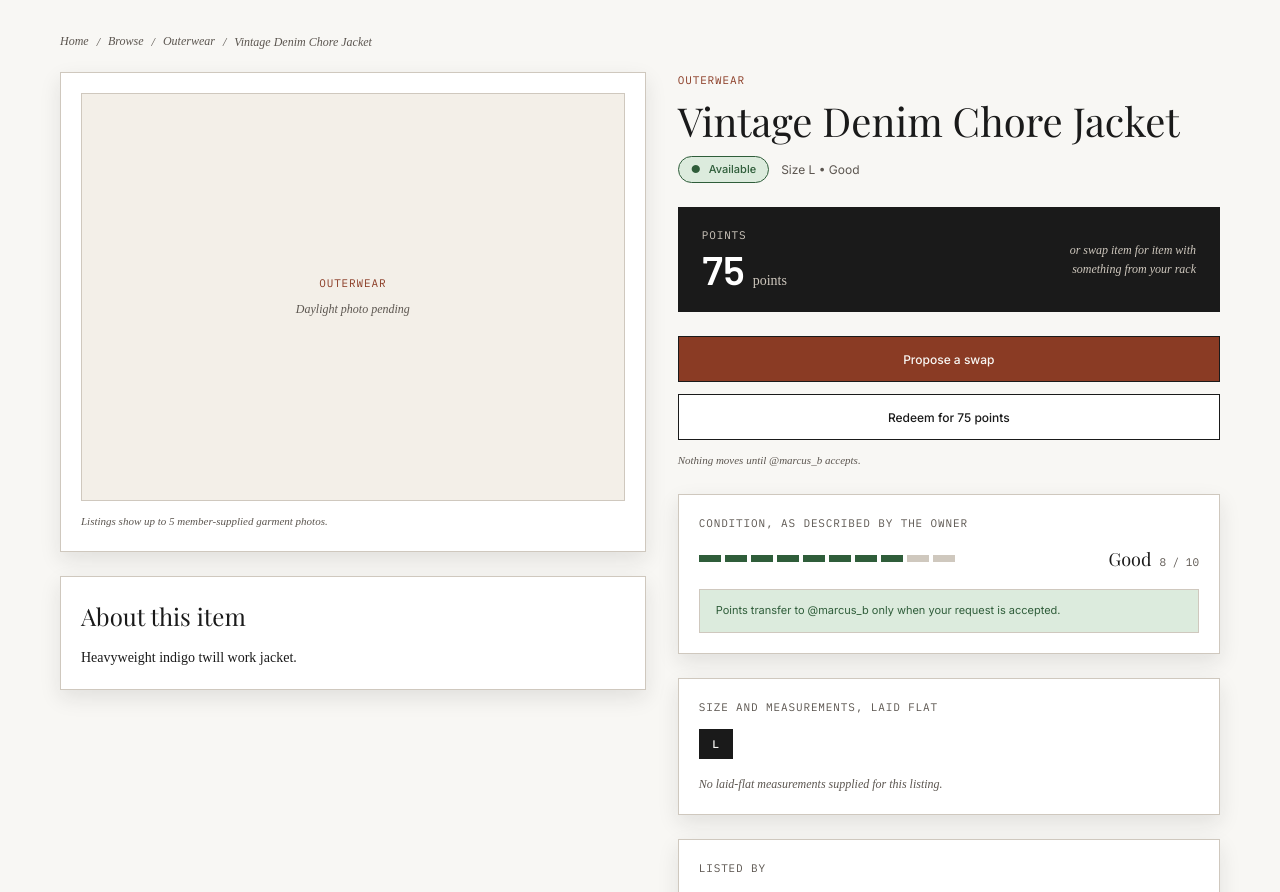
Test case: ItemDetailPage Redeem Dialog & Propose Swap Wiring › links Propose a swap to /swaps/new?item=<id> and opens accessible redeem dialog with focus trap and Escape restore
Click the button "Redeem for 75 points": (949, 417) [678,394,1220,440]
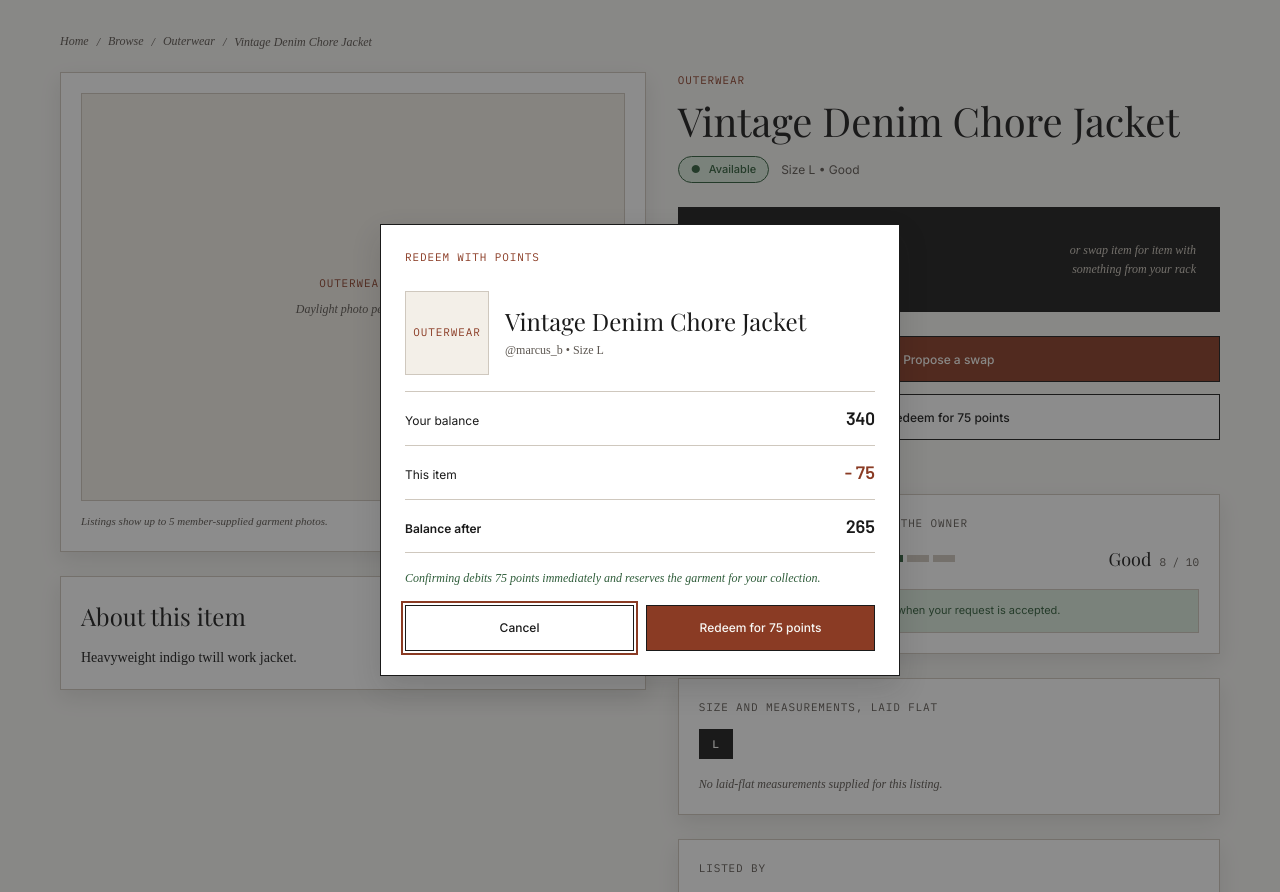
Expected: the text "340" is shown, [846,404,875,433]
Expected: the text "- 75" is shown, [845,458,875,487]
Expected: the text "265" is shown, [846,512,875,540]
Tabbing cycles within dialog and wraps back to Cancel
Press Tab
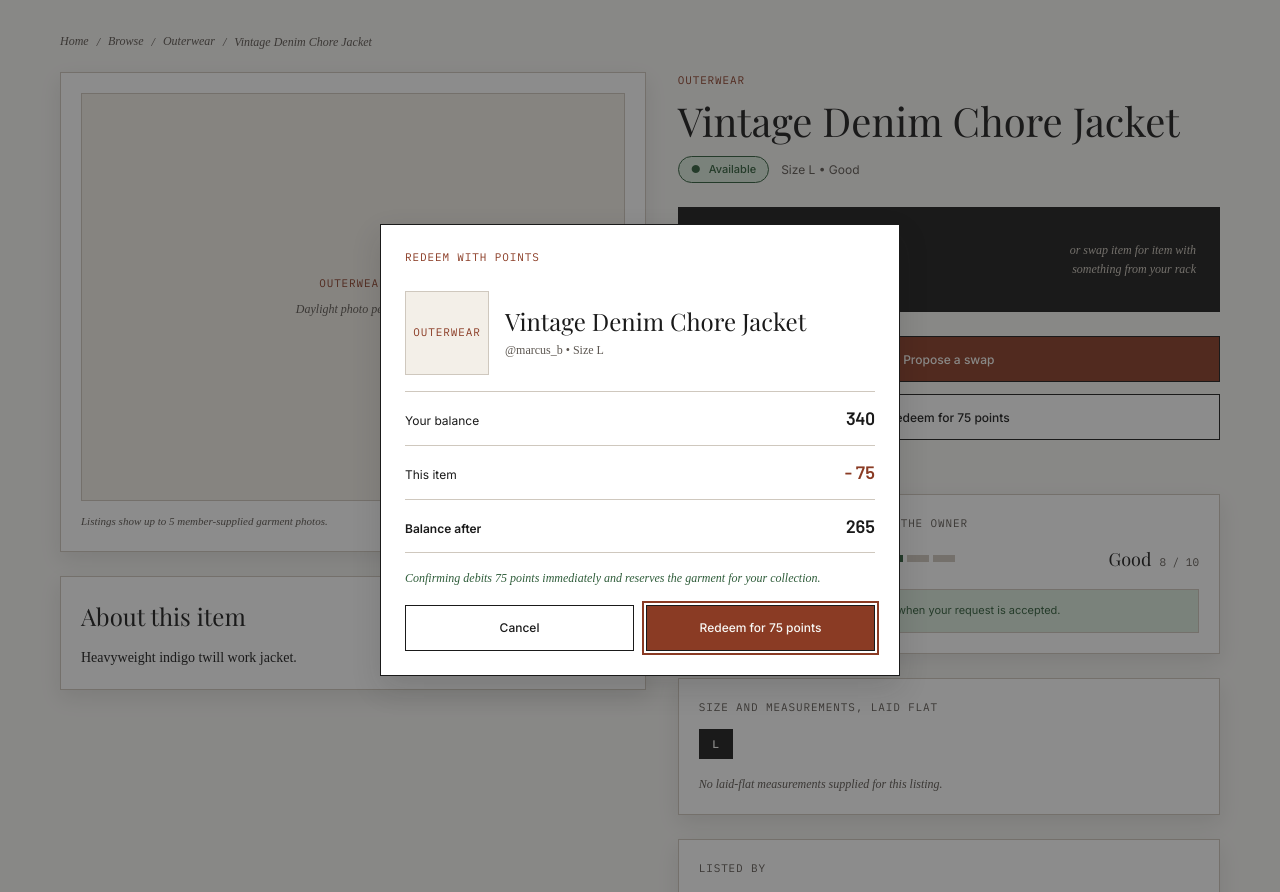
Press Tab
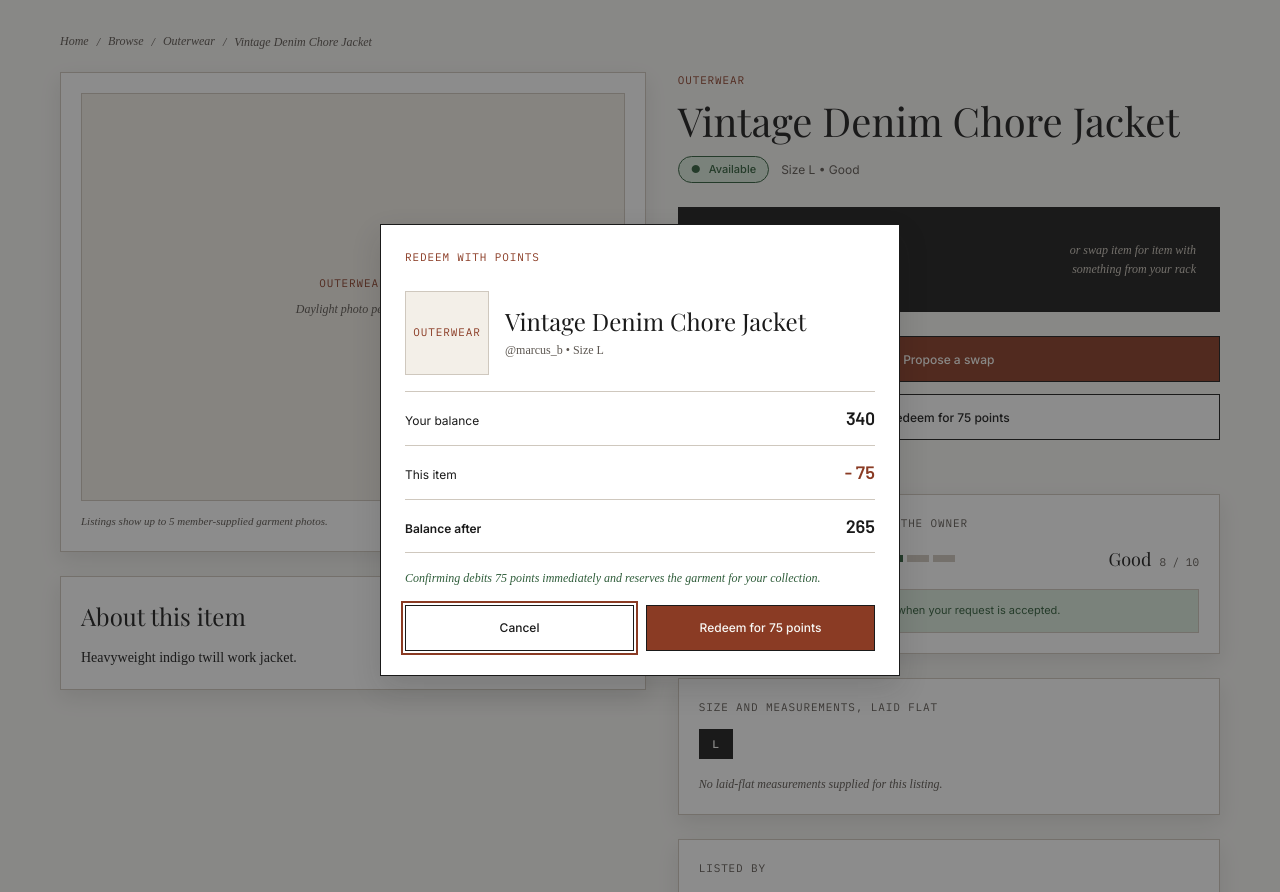
Shift+Tab wraps backwards to Confirm
Press Shift+Tab
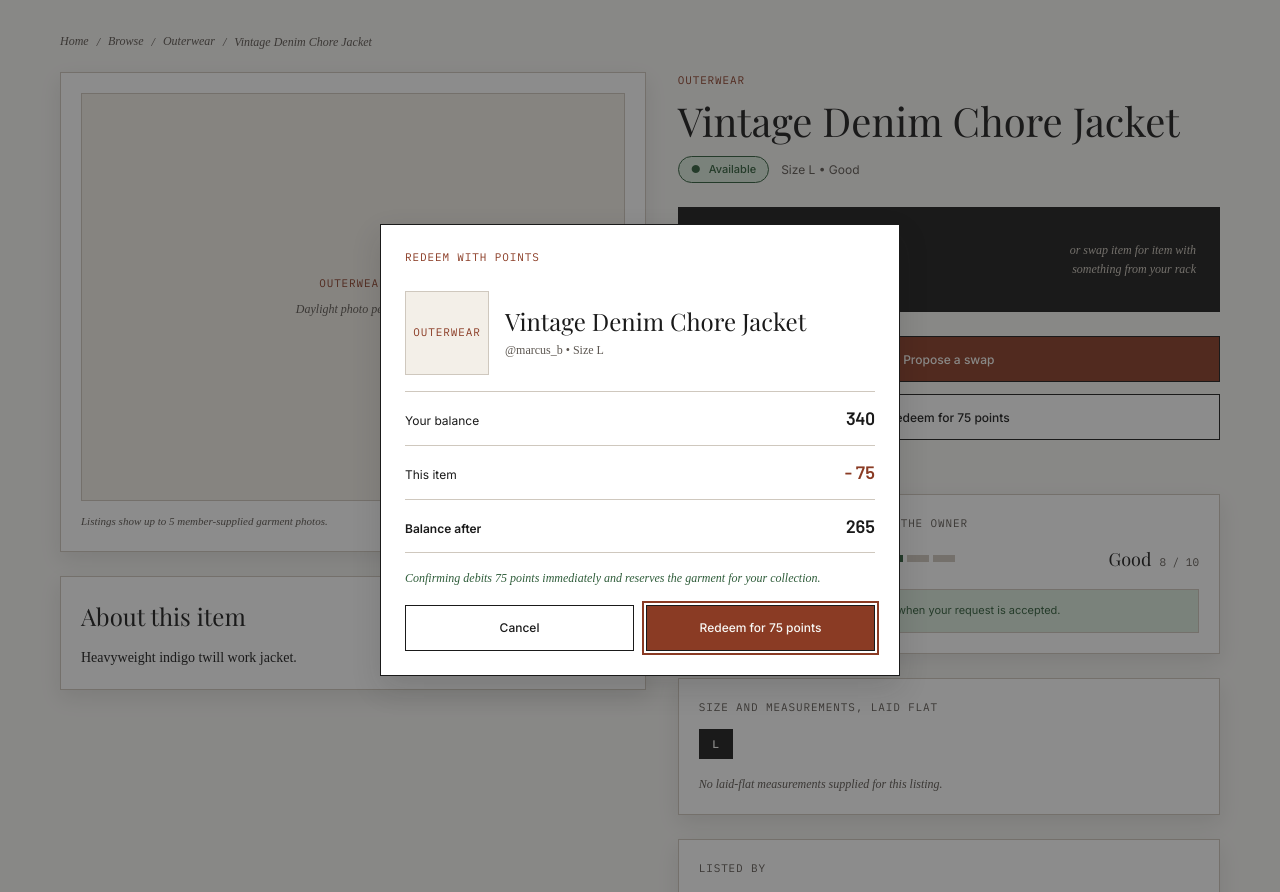
Escape closes dialog and returns focus to trigger button
Press Escape
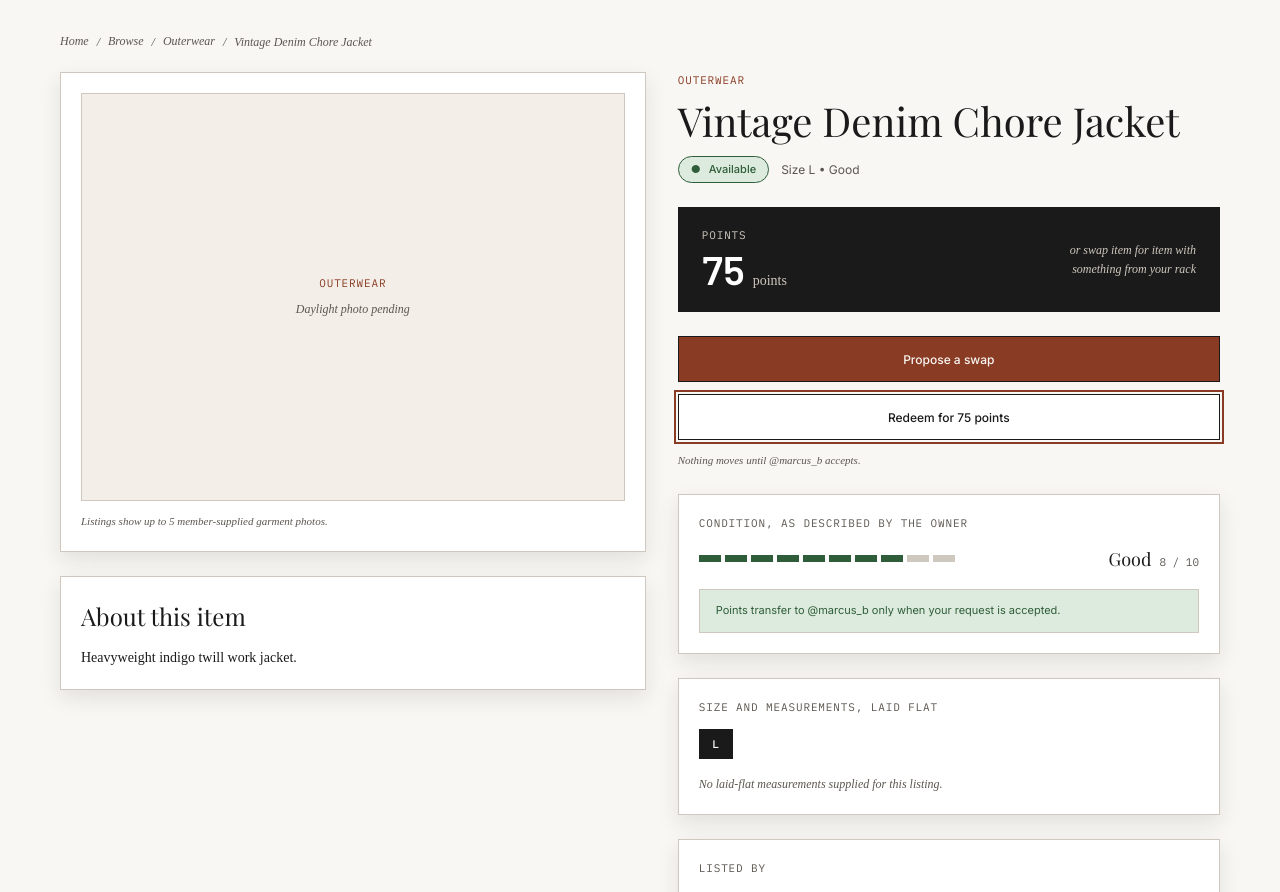
Expected: the dialog is gone
